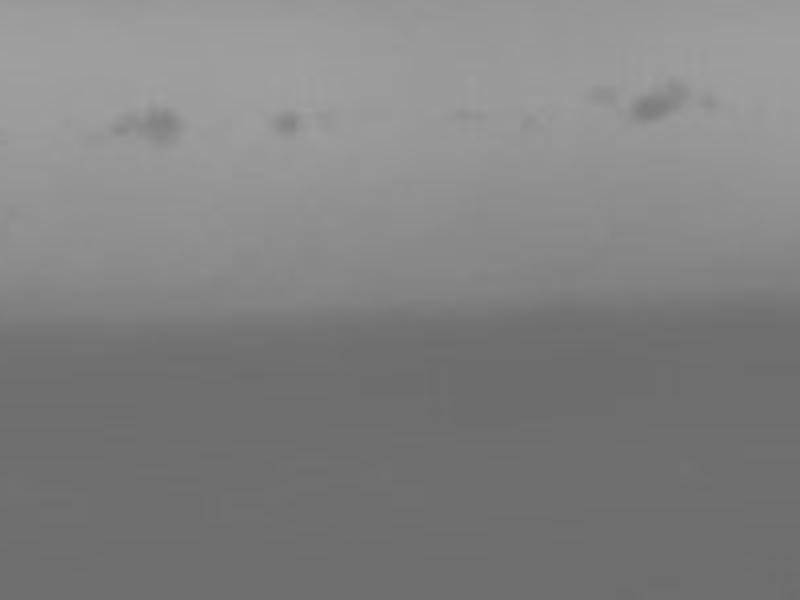defect: (136, 106, 182, 149), (635, 96, 680, 123), (108, 108, 139, 139), (584, 82, 619, 108), (660, 70, 688, 100), (453, 105, 493, 125), (273, 111, 305, 135), (515, 112, 547, 135), (696, 90, 721, 111)
